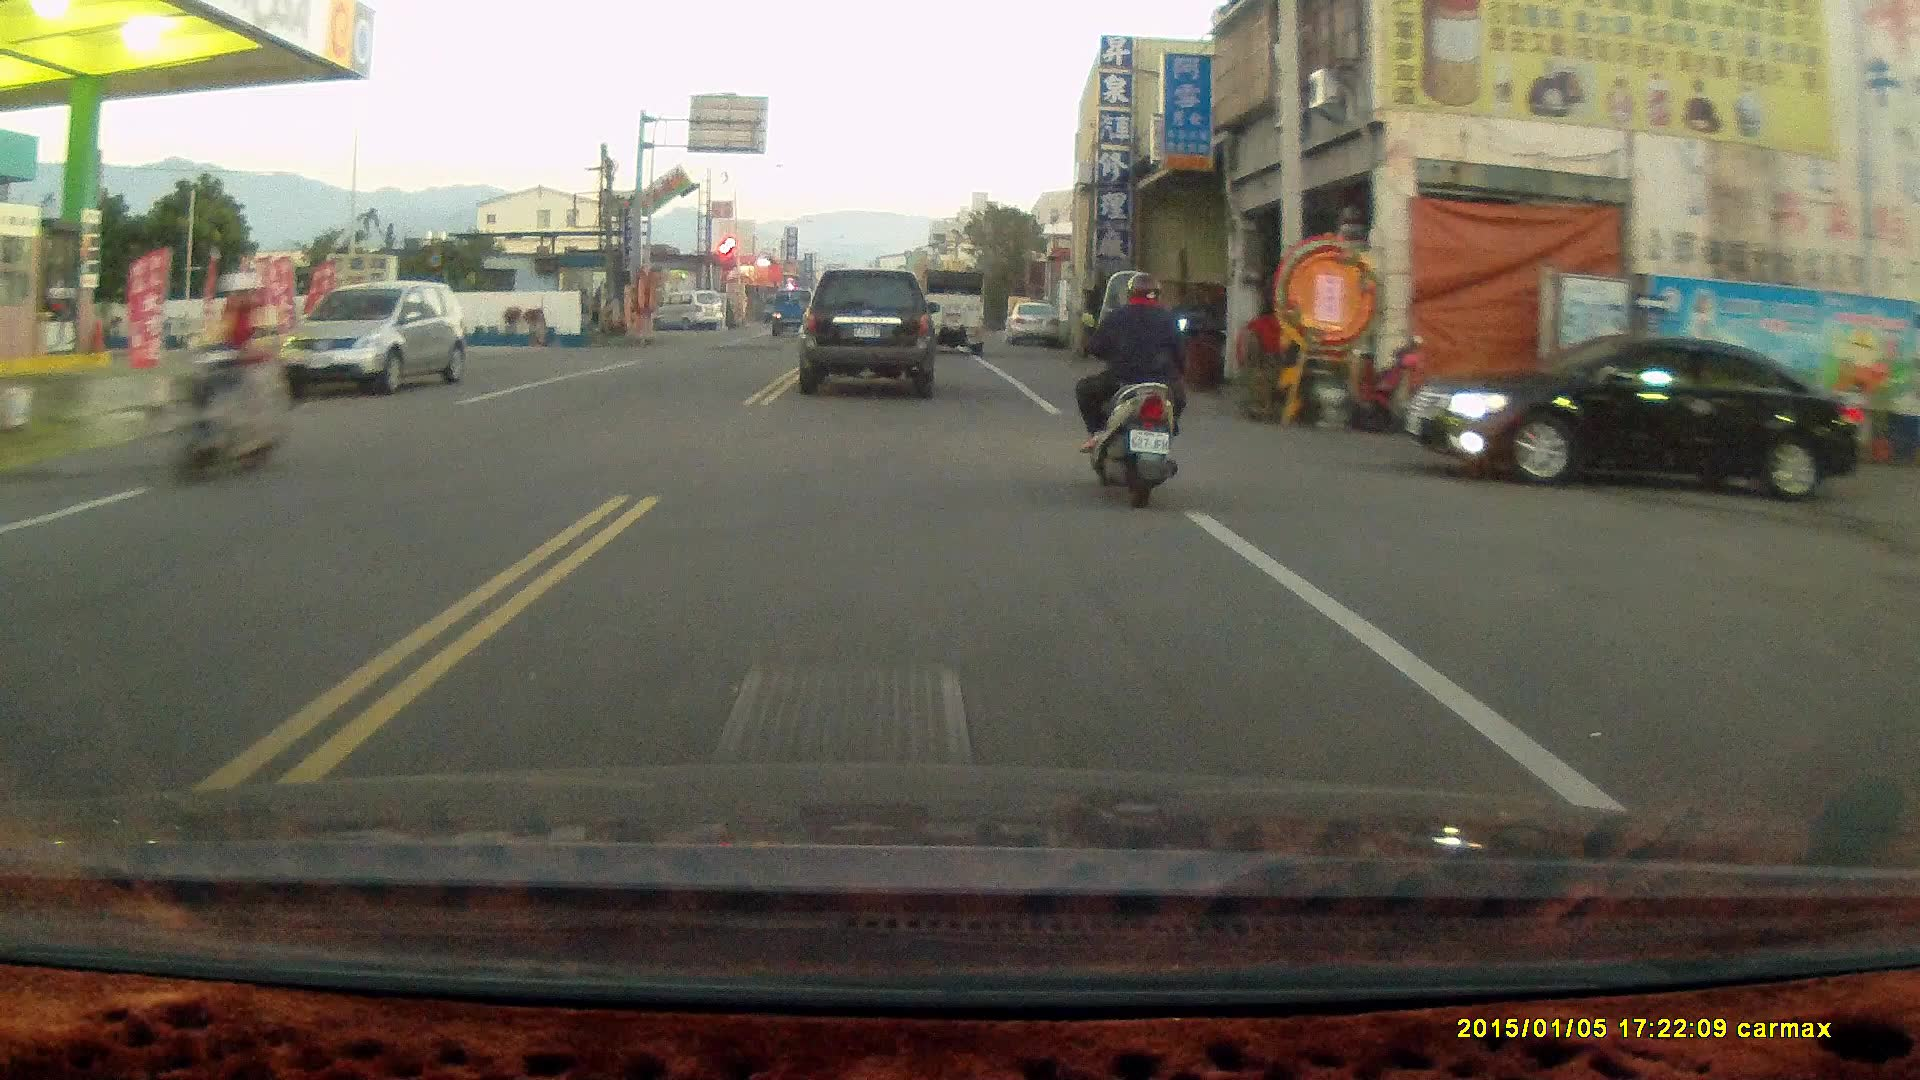rider: (168, 265, 305, 490), (1075, 266, 1186, 505)
vehicle: (1412, 333, 1865, 499), (289, 278, 465, 400), (797, 261, 944, 396), (917, 266, 987, 355), (1004, 301, 1061, 344)
